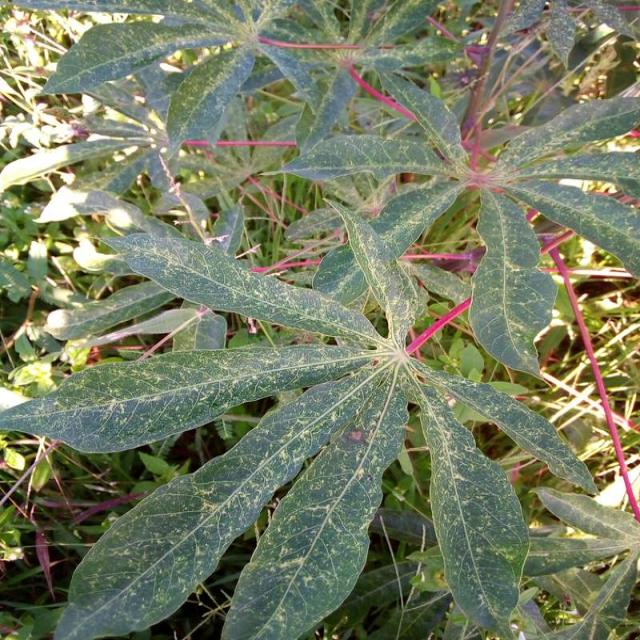cassava leaf: (0, 1, 638, 638), (52, 358, 385, 639), (219, 366, 409, 638)
